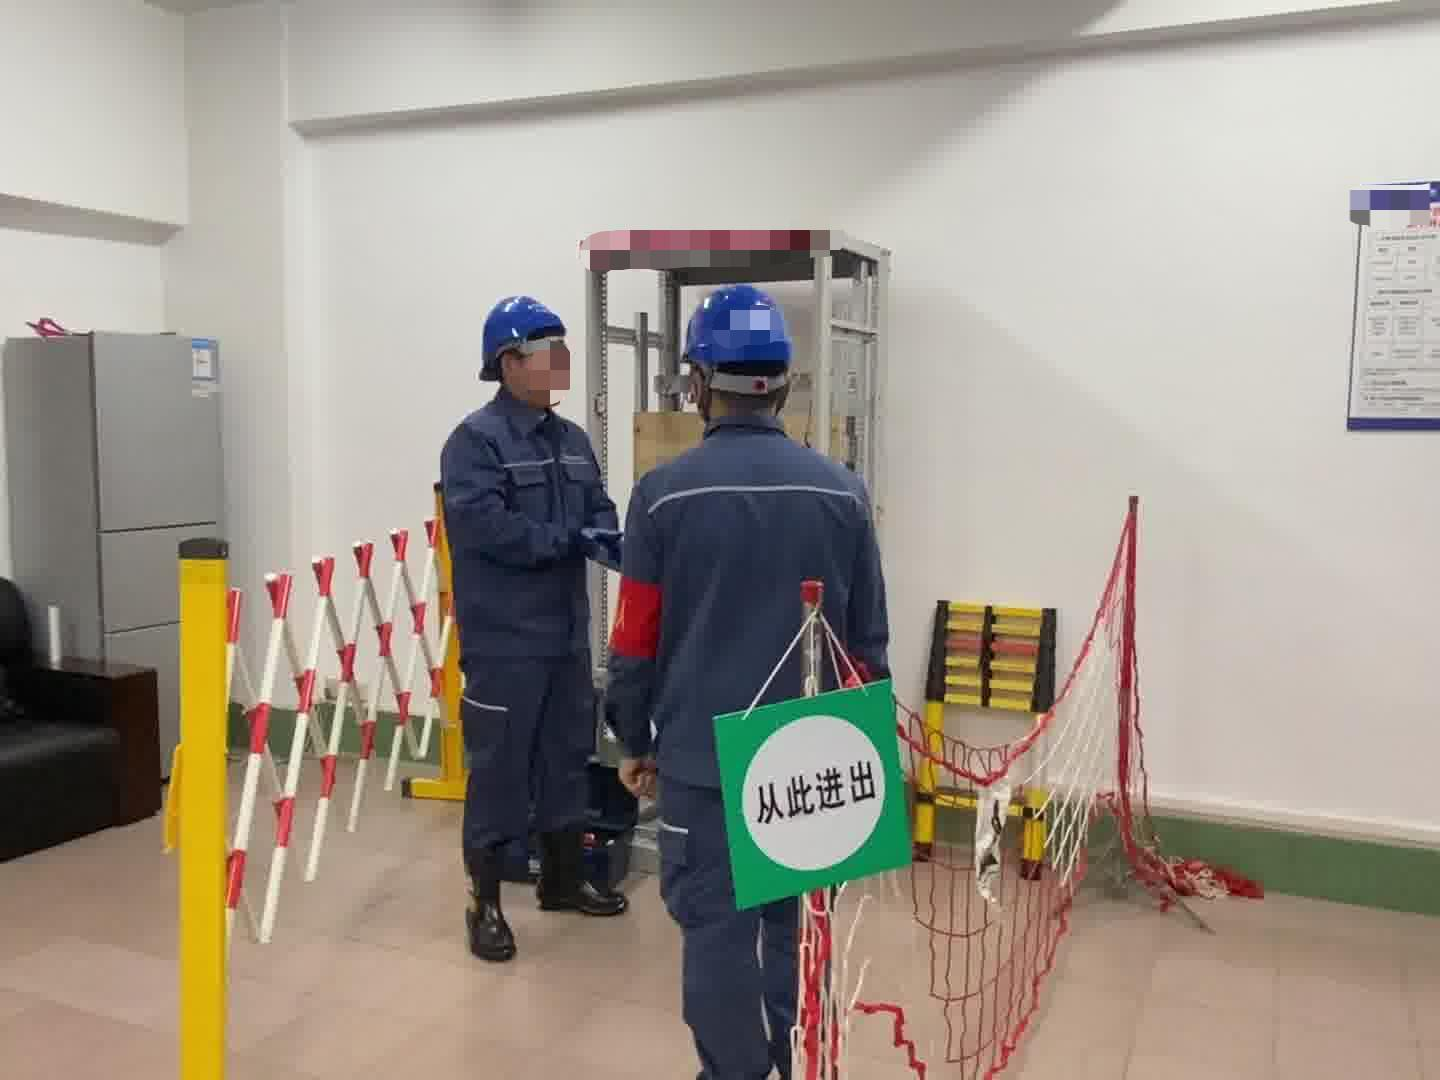halt: (684, 286, 798, 421)
noear: (497, 346, 534, 390)
